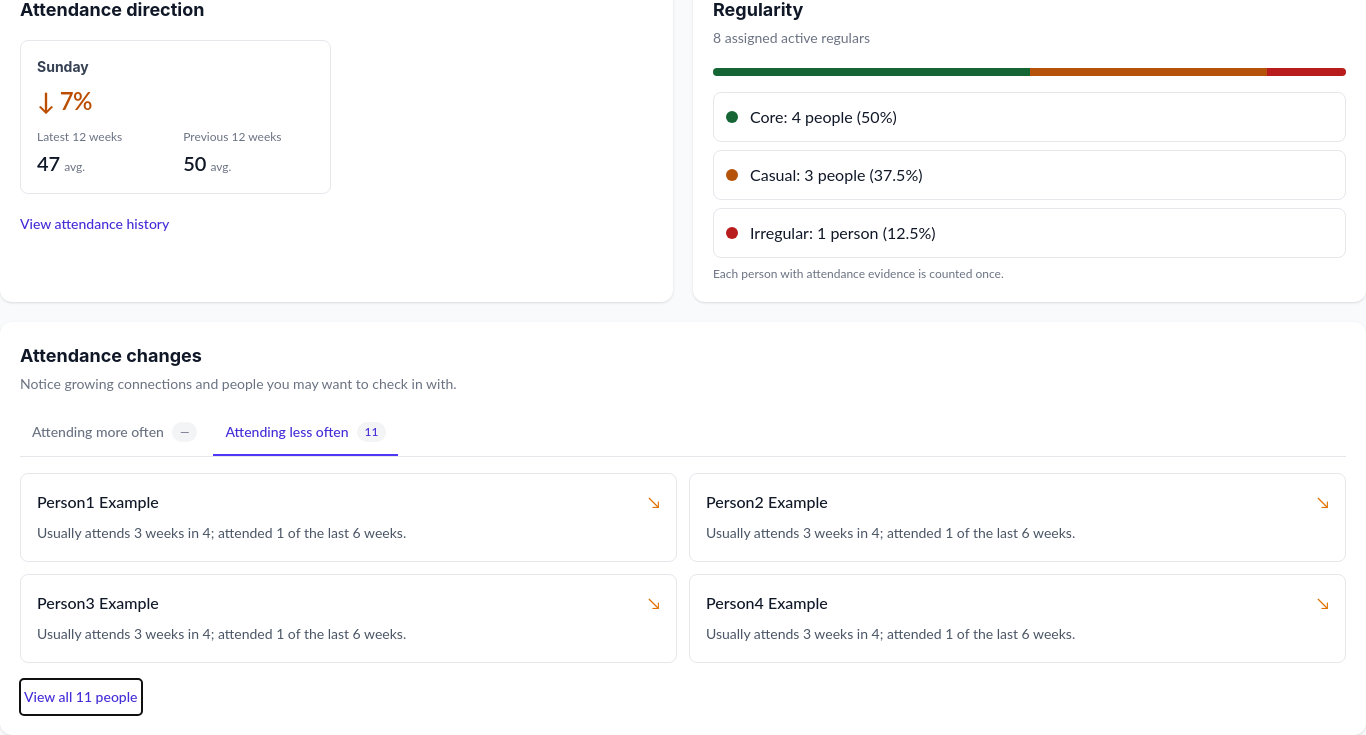
Test: LongTermTrends › limits the decline preview to four person cards and opens View all
The width and height of the screenshot is (1366, 735).
(page scrolled)
Expected: the number of list items is 4, [20,473,677,562]; [689,473,1346,562]; [20,574,677,663]; [689,574,1346,663]
Expected: the text "Usually attends 3 weeks in 4; attended 1 of the last 6 weeks." is shown 4 times, [37,524,406,541]; [706,524,1075,541]; [37,625,406,642]; [706,625,1075,642]
What coordinates should you click on to do the following:
click the button "View all 11 people"
I would click on:
 (81, 696)
Its box is [20,678,142,714].
(page scrolled)
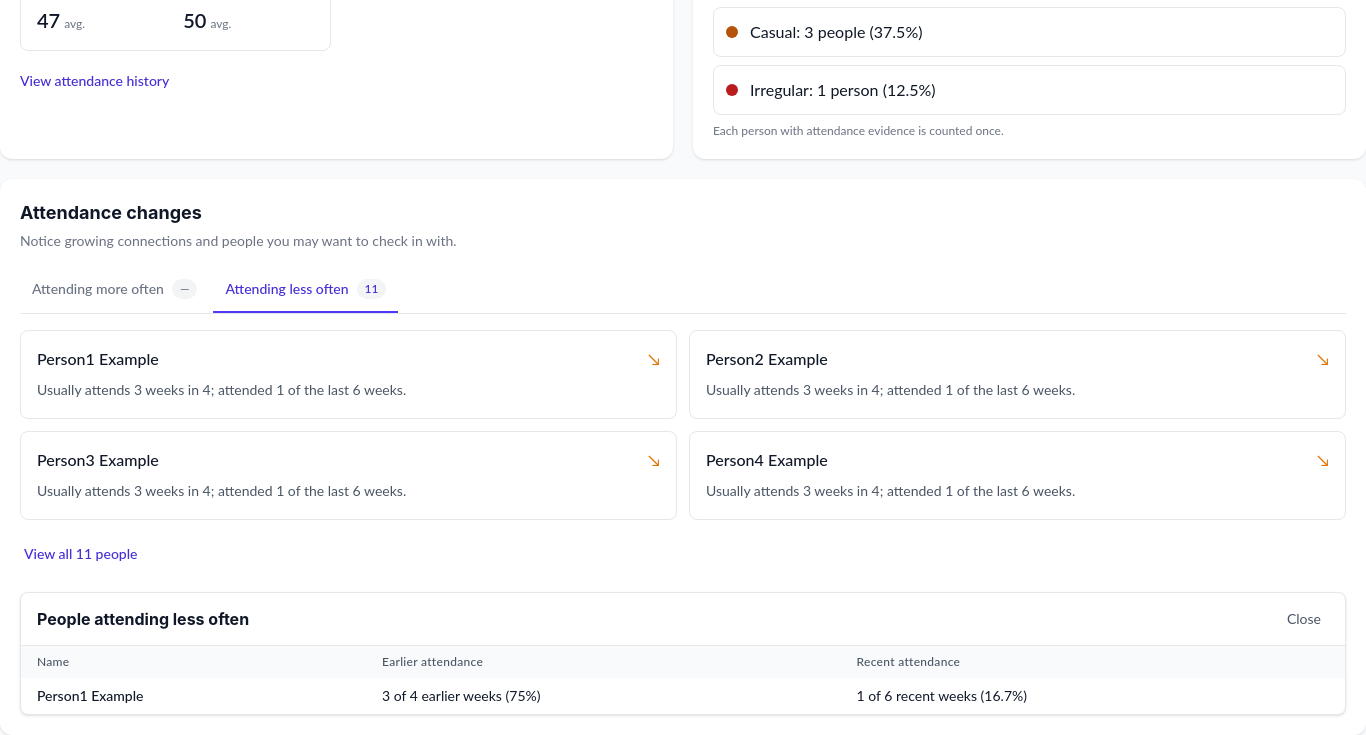
Result: the column heading "Recent attendance" is shown at [840,646,1345,678]
Result: the text "1 of 6 recent weeks (16.7%)" is shown at [840,678,1345,714]
